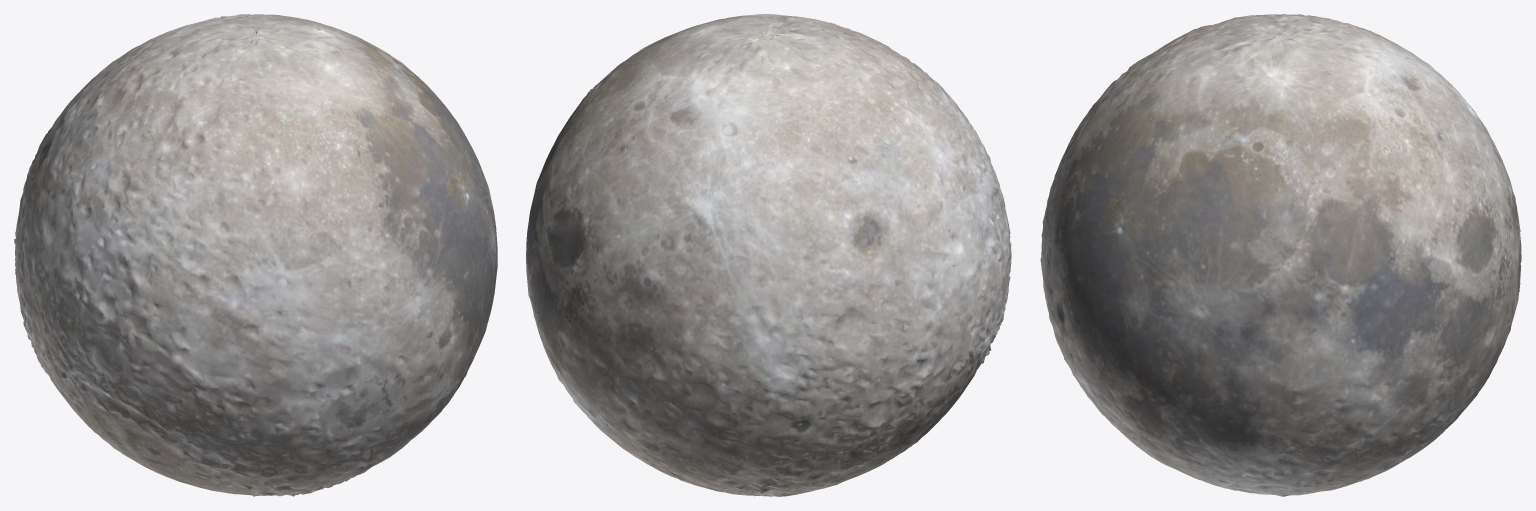
The model's file is moon4-onizleme.glb.
The picture shows the model from 3 angles, left to right: view 1: azimuth 30°, elevation 25°; view 2: azimuth 150°, elevation 25°; view 3: azimuth 270°, elevation 25°; orthographic projection.
Visible parts, largest first — view 1: Sphere; view 2: Sphere; view 3: Sphere.
Part boxes in pixels (bbox=[...]): Sphere: bbox=[14, 14, 497, 496]; Sphere: bbox=[526, 14, 1011, 496]; Sphere: bbox=[1040, 14, 1521, 496].
Bounding box in the file's own units: 1.92 × 1.93 × 1.92.
1 material, 1 textured.
